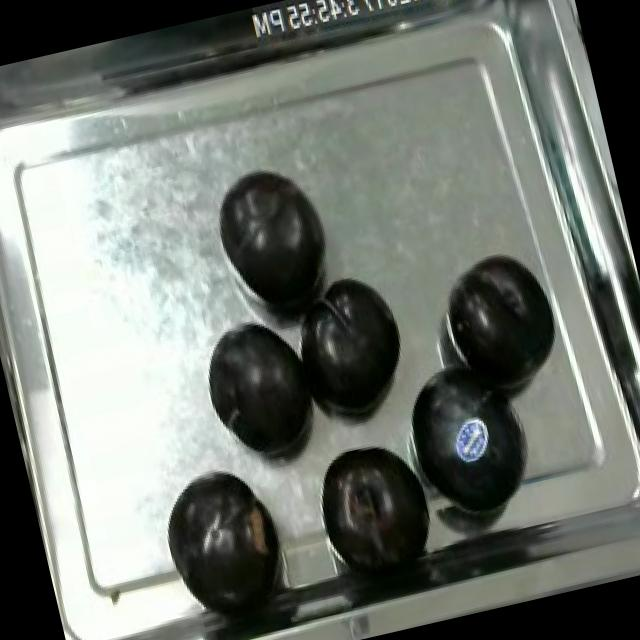Fruit: (386, 340, 546, 528), (146, 453, 298, 630), (279, 258, 425, 436), (191, 304, 334, 478), (201, 153, 346, 324), (428, 238, 576, 404), (298, 422, 444, 588)
